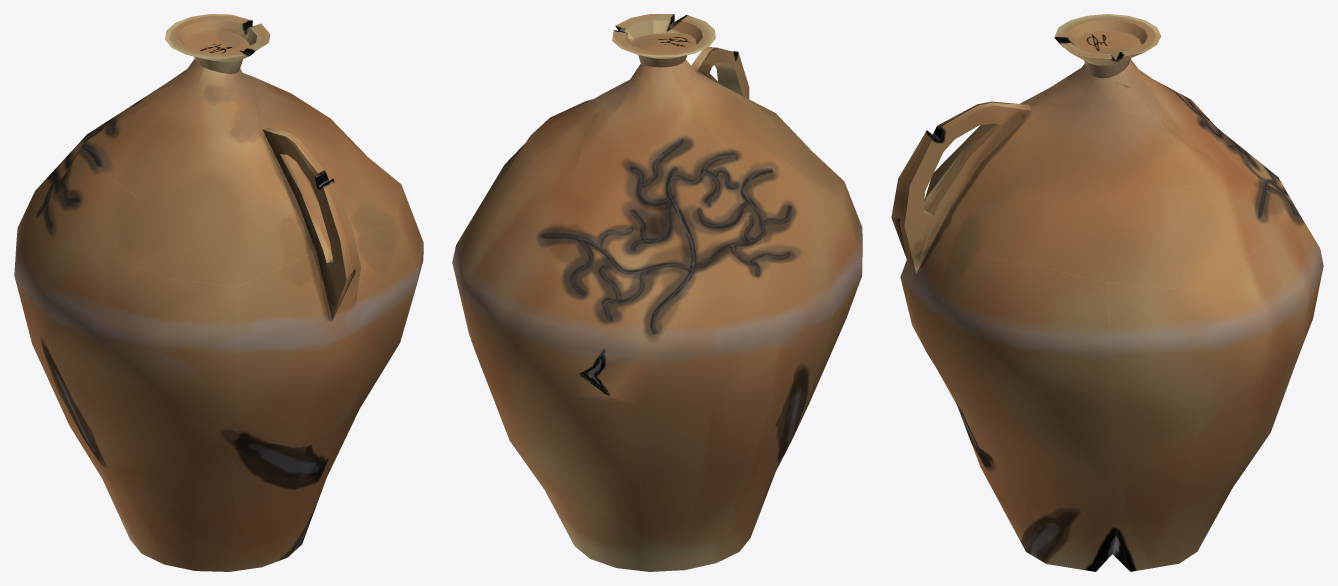
Rendered from vase1.fbx.
The picture shows the model from 3 angles, left to right: view 1: azimuth 30°, elevation 25°; view 2: azimuth 150°, elevation 25°; view 3: azimuth 270°, elevation 25°; orthographic projection.
Parts seen in each view (by area): view 1: vase; view 2: vase; view 3: vase.
Boxes of the visible parts, x1,y1,x2,y2 form: vase: [14, 14, 423, 571]; vase: [452, 14, 862, 571]; vase: [891, 14, 1323, 571].
Bounding box in the file's own units: 235 × 322 × 251.
Materials: 1 (1 with a texture image).
